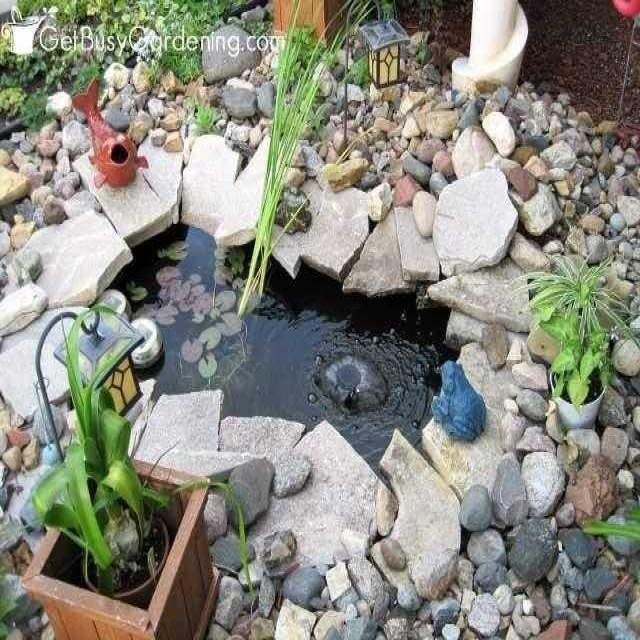Ponds: (1, 139, 541, 592)
